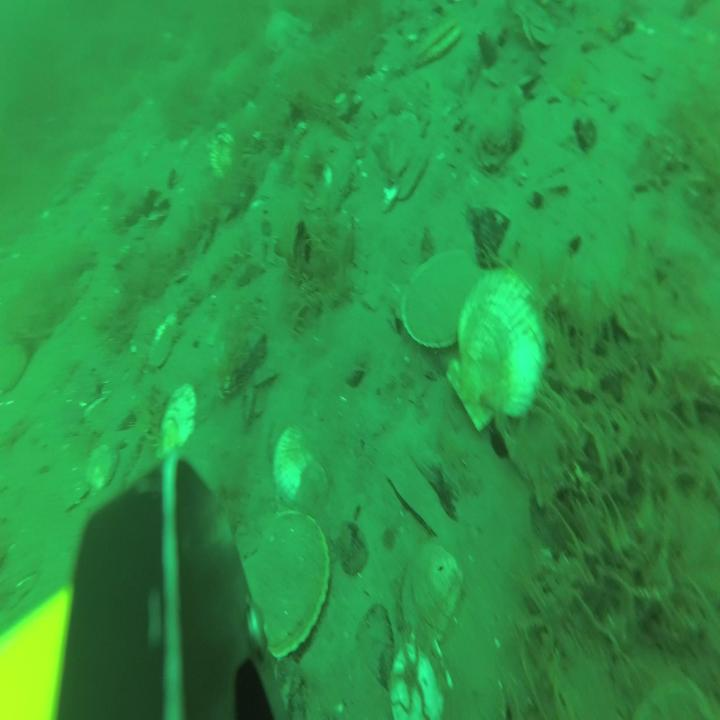scallop: (450, 264, 544, 432), (244, 517, 327, 655), (399, 249, 476, 346), (408, 536, 463, 638), (394, 638, 453, 720), (273, 428, 320, 509), (155, 384, 196, 463), (416, 19, 462, 66), (294, 464, 329, 516), (401, 138, 430, 198), (149, 310, 179, 366), (391, 114, 415, 174), (87, 442, 115, 488), (210, 125, 234, 174)
starfish: (267, 6, 301, 54)
